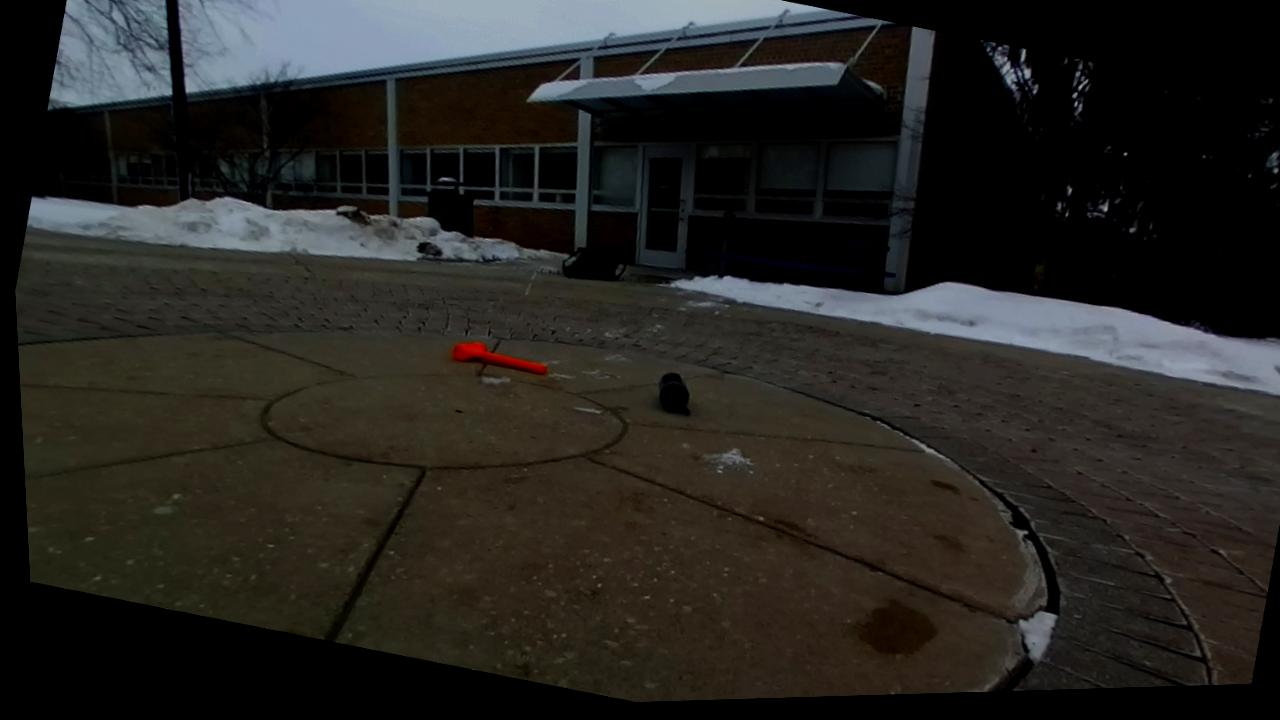bottle: (658, 372, 688, 413)
mallet: (452, 342, 546, 374)
